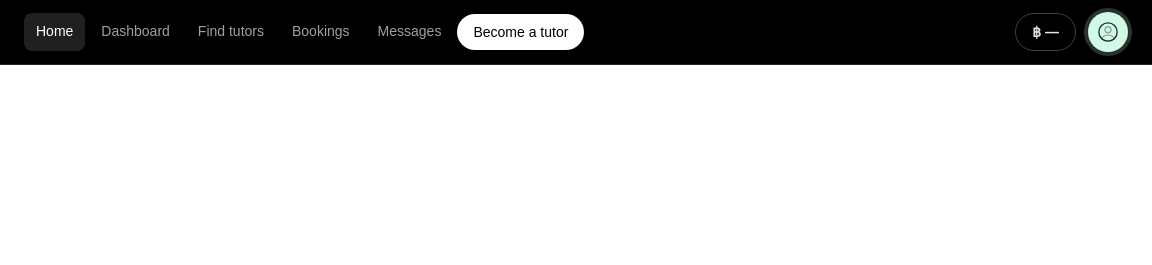
Test case: Navbar › clears the session and returns home when Logout is clicked
This screenshot has width=1152, height=265.
Click the button named "Open account menu".
click(1108, 32)  # box [1088,12,1128,52]
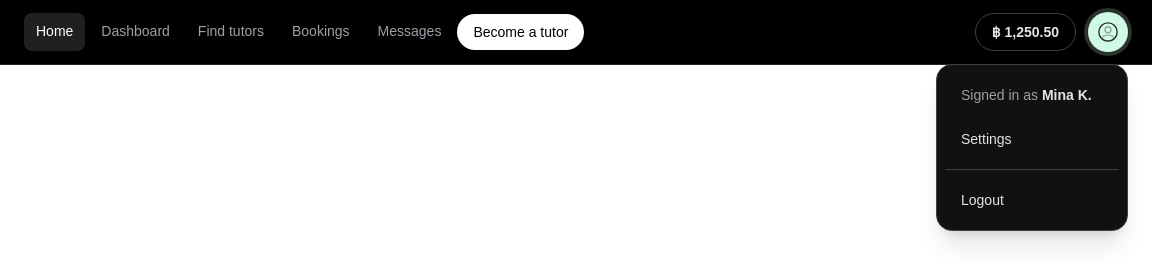
Click the button "Logout".
click(1032, 200)  # box [945,178,1119,222]
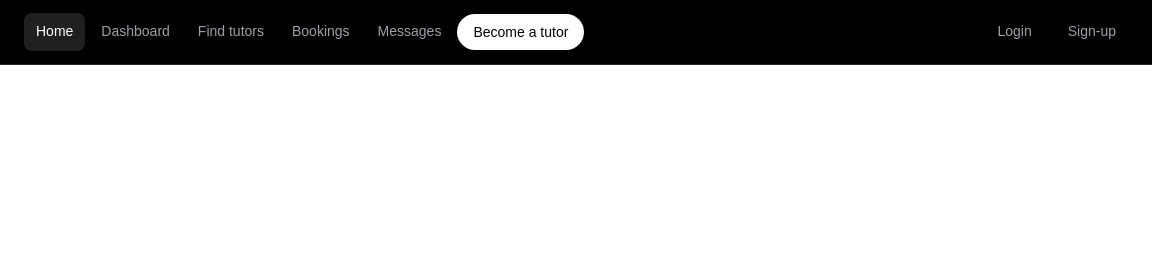
Check: the link "Login" is shown, box [998,23,1032,39]
